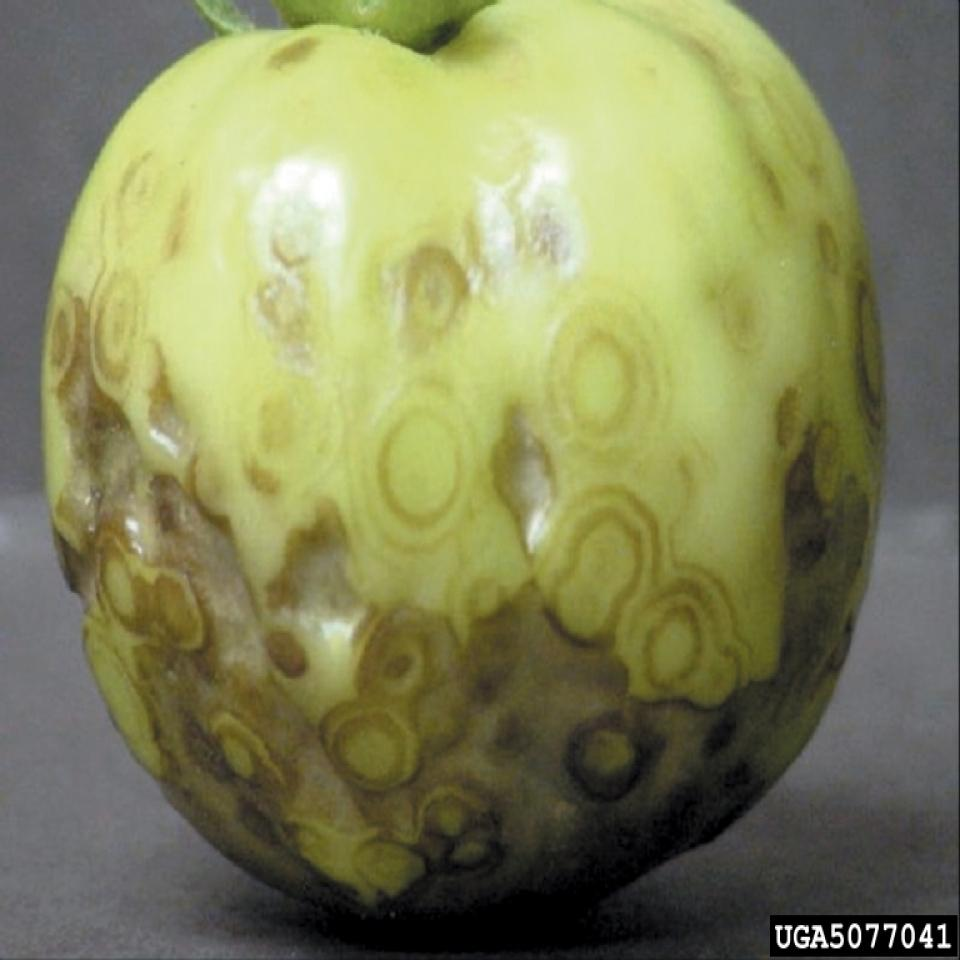Spotted wilt Virus: (40, 0, 882, 928)
